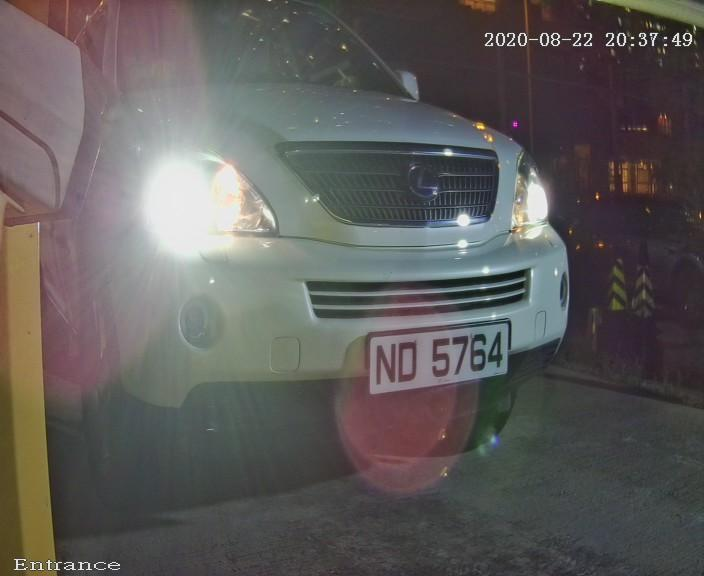Car: (4, 11, 629, 530)
License Plate: (356, 312, 525, 402)
